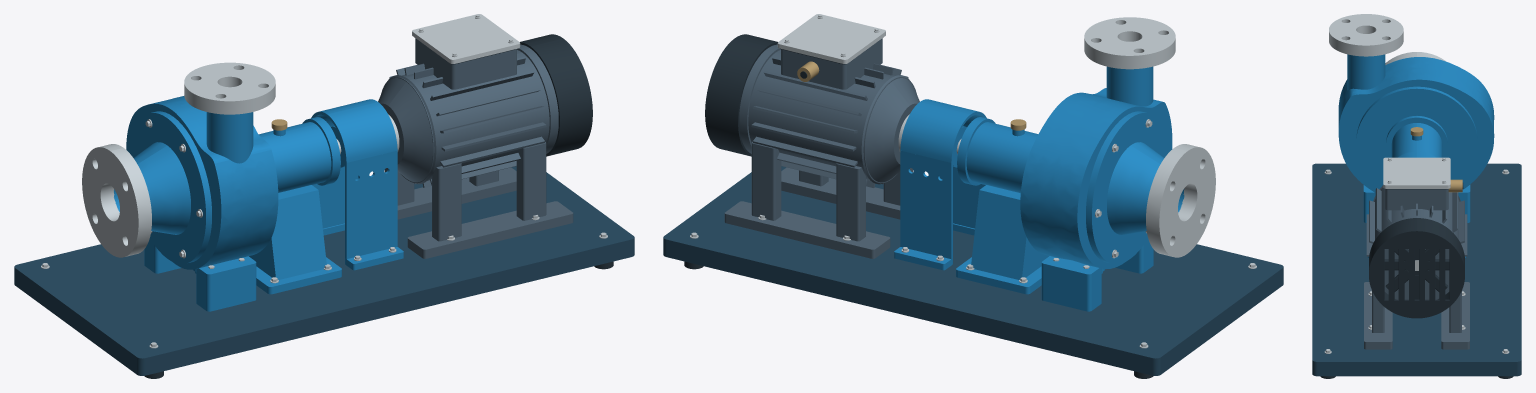
File: centrifugal-pump.glb
The picture shows the model from 3 angles, left to right: view 1: azimuth 30°, elevation 25°; view 2: azimuth 150°, elevation 25°; view 3: azimuth 270°, elevation 25°; orthographic projection. The views are drawn at different scales.
Visible parts, largest first — view 1: blue, base, motor, steel, rubber; view 2: blue, base, motor, steel, rubber; view 3: base, blue, rubber, motor, steel, brass.
Boxes of the visible parts, x1,y1,x2,y2 form: blue: (114, 96, 403, 311); base: (14, 166, 634, 375); motor: (378, 38, 573, 258); steel: (41, 14, 607, 348); rubber: (144, 34, 613, 378); blue: (894, 66, 1184, 311); base: (663, 166, 1283, 375); motor: (724, 38, 919, 258); steel: (690, 14, 1256, 348); rubber: (684, 34, 1153, 378); base: (1312, 163, 1521, 376); blue: (1338, 54, 1494, 257); rubber: (1320, 183, 1513, 378); motor: (1364, 185, 1469, 349); steel: (1324, 14, 1509, 353); brass: (1410, 127, 1462, 192).
Bounding box in the file's own units: 4 × 1.94 × 1.78.
